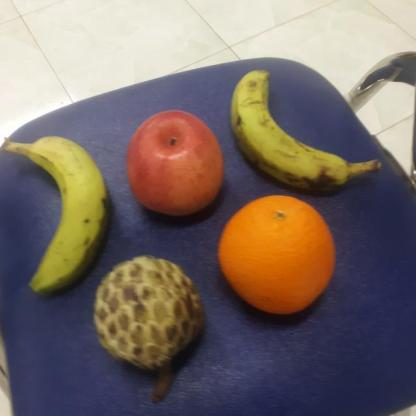annona: (94, 254, 206, 365)
apple: (121, 108, 229, 218)
banana: (227, 66, 348, 193), (23, 136, 110, 296)
orange: (219, 194, 339, 316)
